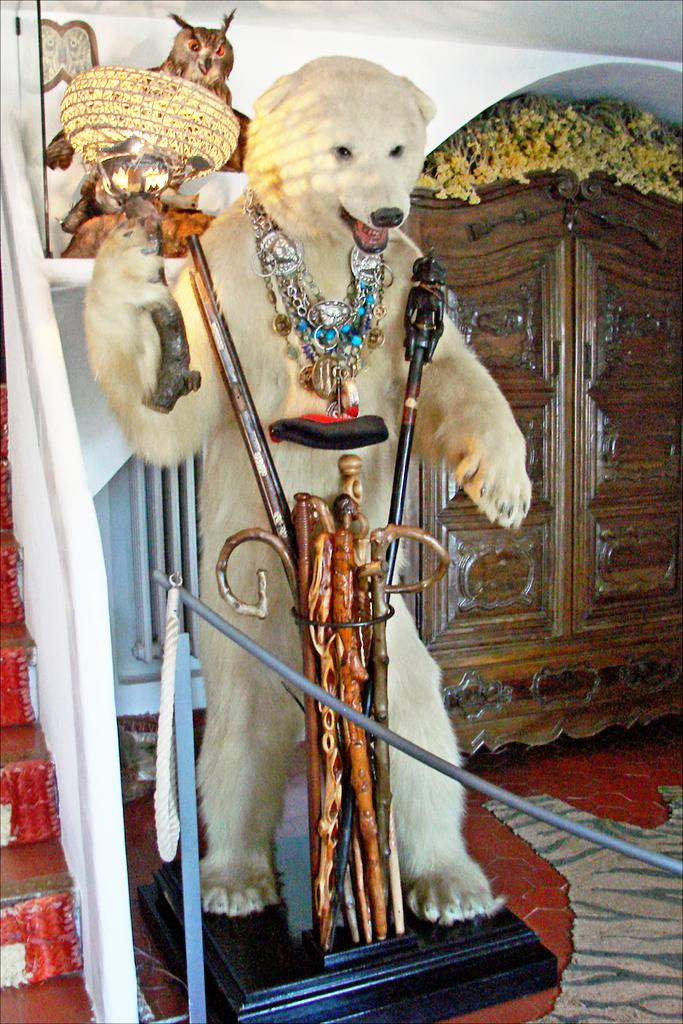Owl: (45, 10, 246, 172)
